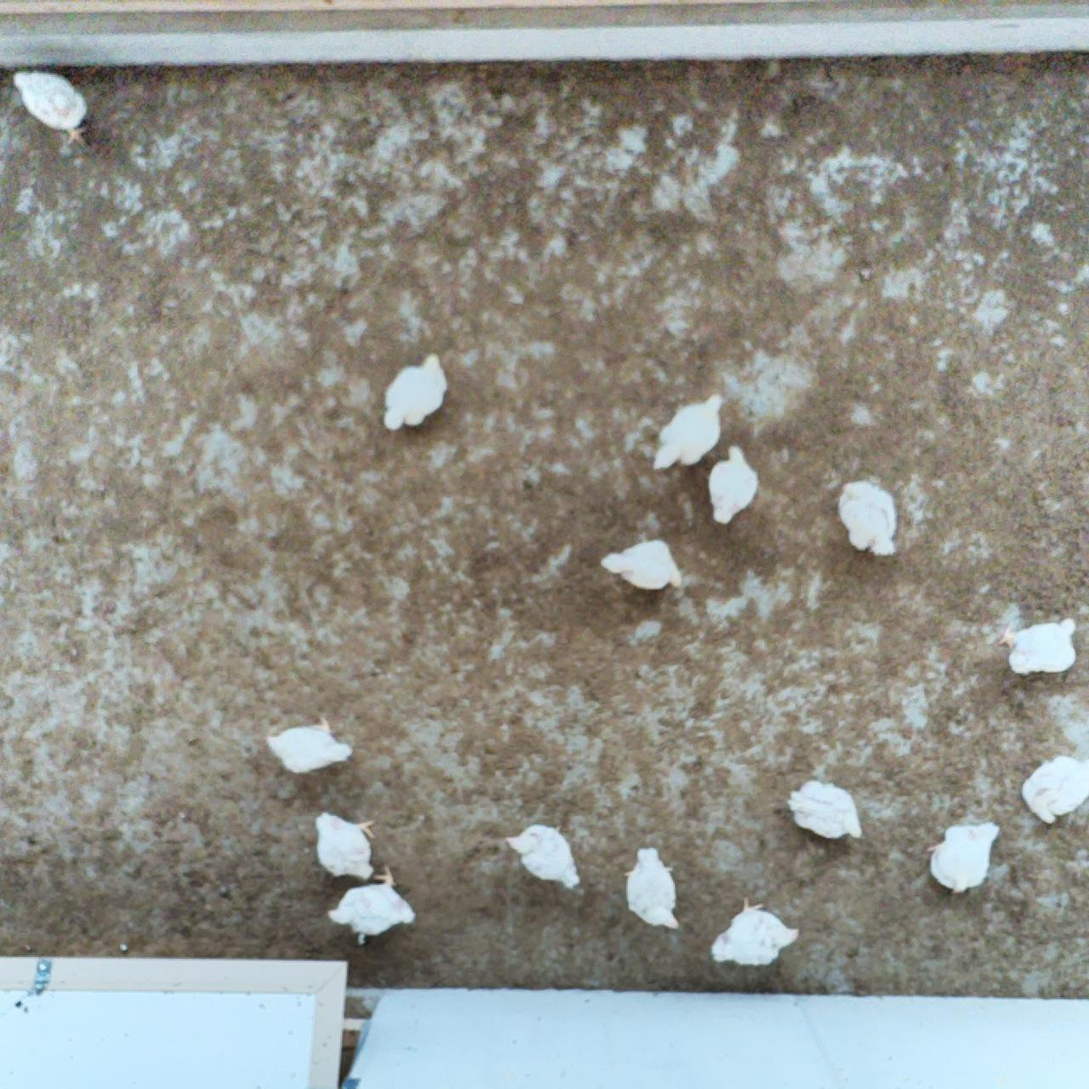chicken: (325, 865, 419, 939), (709, 895, 798, 967), (11, 70, 92, 149), (383, 349, 449, 433), (925, 822, 1002, 892), (652, 396, 727, 467), (267, 714, 354, 773), (627, 843, 683, 932), (502, 827, 580, 890), (787, 777, 864, 838), (838, 481, 899, 557), (314, 811, 376, 882), (1025, 755, 1089, 822), (1003, 619, 1078, 676), (603, 542, 683, 591), (708, 443, 757, 522)
